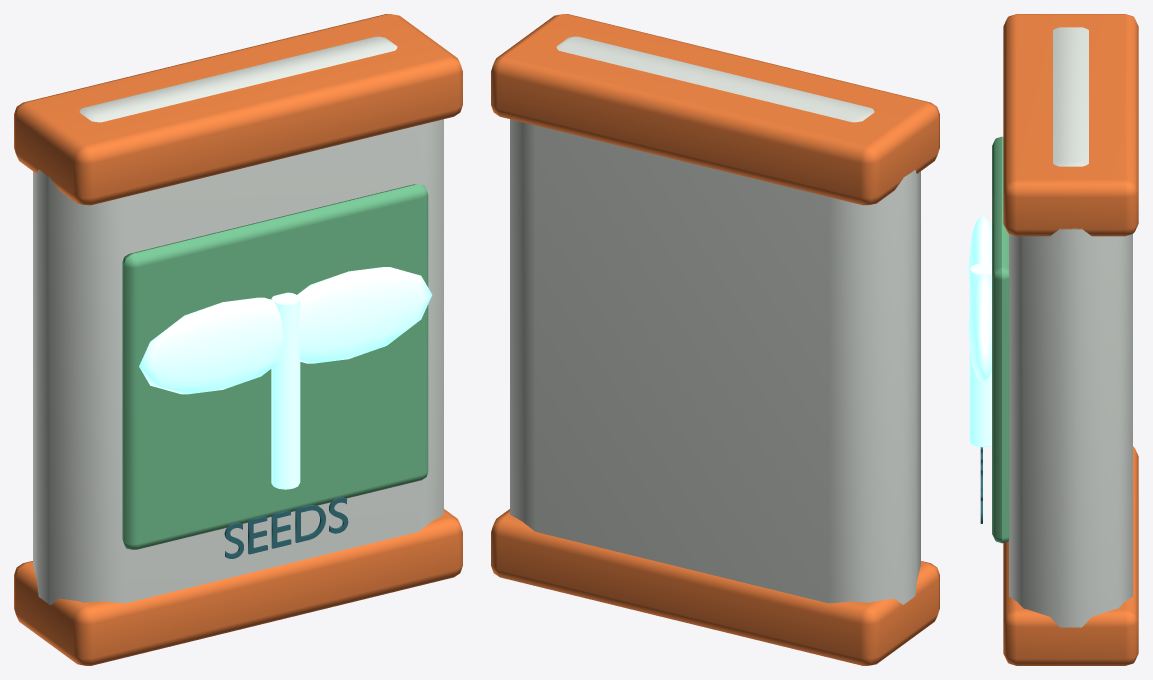
Rendered from Seeds_Packet.glb.
The picture shows the model from 3 angles, left to right: view 1: azimuth 30°, elevation 25°; view 2: azimuth 150°, elevation 25°; view 3: azimuth 270°, elevation 25°; orthographic projection. The views are drawn at different scales.
Parts seen in each view (by area): view 1: Seed pouch, Green label, Heat sealed orange edge.001, Heat sealed orange edge, Seedling leaf, Seedling leaf.001, Seedling stem, SEEDS; view 2: Seed pouch, Heat sealed orange edge.001, Heat sealed orange edge; view 3: Seed pouch, Heat sealed orange edge.001, Heat sealed orange edge, Green label, Seedling leaf.001, Seedling stem, Seedling leaf.
Part boxes in pixels (left/top/right/bottom): Seed pouch: left=33, top=36, right=443, bottom=605; Green label: left=122, top=184, right=428, bottom=549; Heat sealed orange edge.001: left=14, top=14, right=462, bottom=205; Heat sealed orange edge: left=14, top=509, right=462, bottom=665; Seedling leaf: left=139, top=297, right=283, bottom=394; Seedling leaf.001: left=297, top=267, right=432, bottom=363; Seedling stem: left=271, top=292, right=300, bottom=489; SEEDS: left=224, top=497, right=348, bottom=558; Seed pouch: left=510, top=36, right=920, bottom=604; Heat sealed orange edge.001: left=491, top=14, right=939, bottom=205; Heat sealed orange edge: left=491, top=509, right=939, bottom=665; Seed pouch: left=1009, top=27, right=1132, bottom=627; Heat sealed orange edge.001: left=1003, top=14, right=1138, bottom=236; Heat sealed orange edge: left=1003, top=446, right=1138, bottom=665; Green label: left=992, top=136, right=1009, bottom=543; Seedling leaf.001: left=968, top=273, right=991, bottom=381; Seedling stem: left=969, top=263, right=991, bottom=447; Seedling leaf: left=968, top=216, right=991, bottom=282.
Size of the model in its own units: 0.37 by 0.48 by 0.151.
